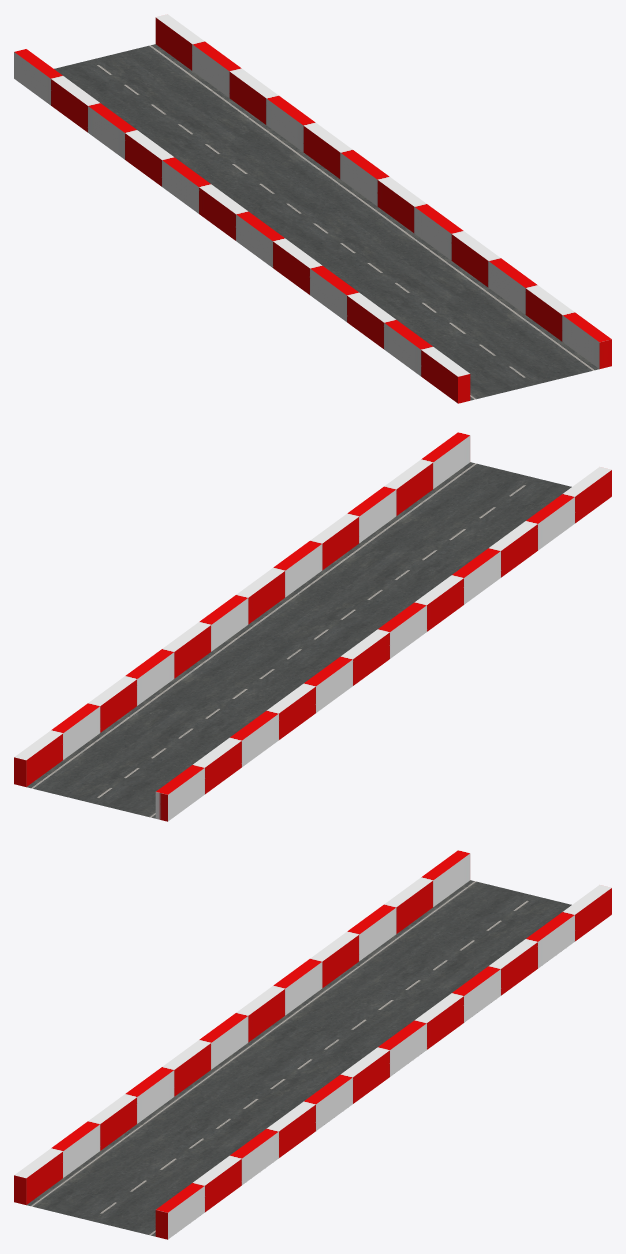
File: startstraight.fbx
The picture shows the model from 3 angles, top to bottom: view 1: azimuth 30°, elevation 25°; view 2: azimuth 150°, elevation 25°; view 3: azimuth 330°, elevation 25°; orthographic projection.
Visible parts, largest first — view 1: Plane.002; view 2: Plane.002; view 3: Plane.002.
Boxes of the visible parts, bbox=[...] form: Plane.002: bbox=[14, 14, 611, 403]; Plane.002: bbox=[14, 432, 611, 821]; Plane.002: bbox=[14, 850, 611, 1239].
Bounding box in the file's own units: 600 × 100 × 3000.
